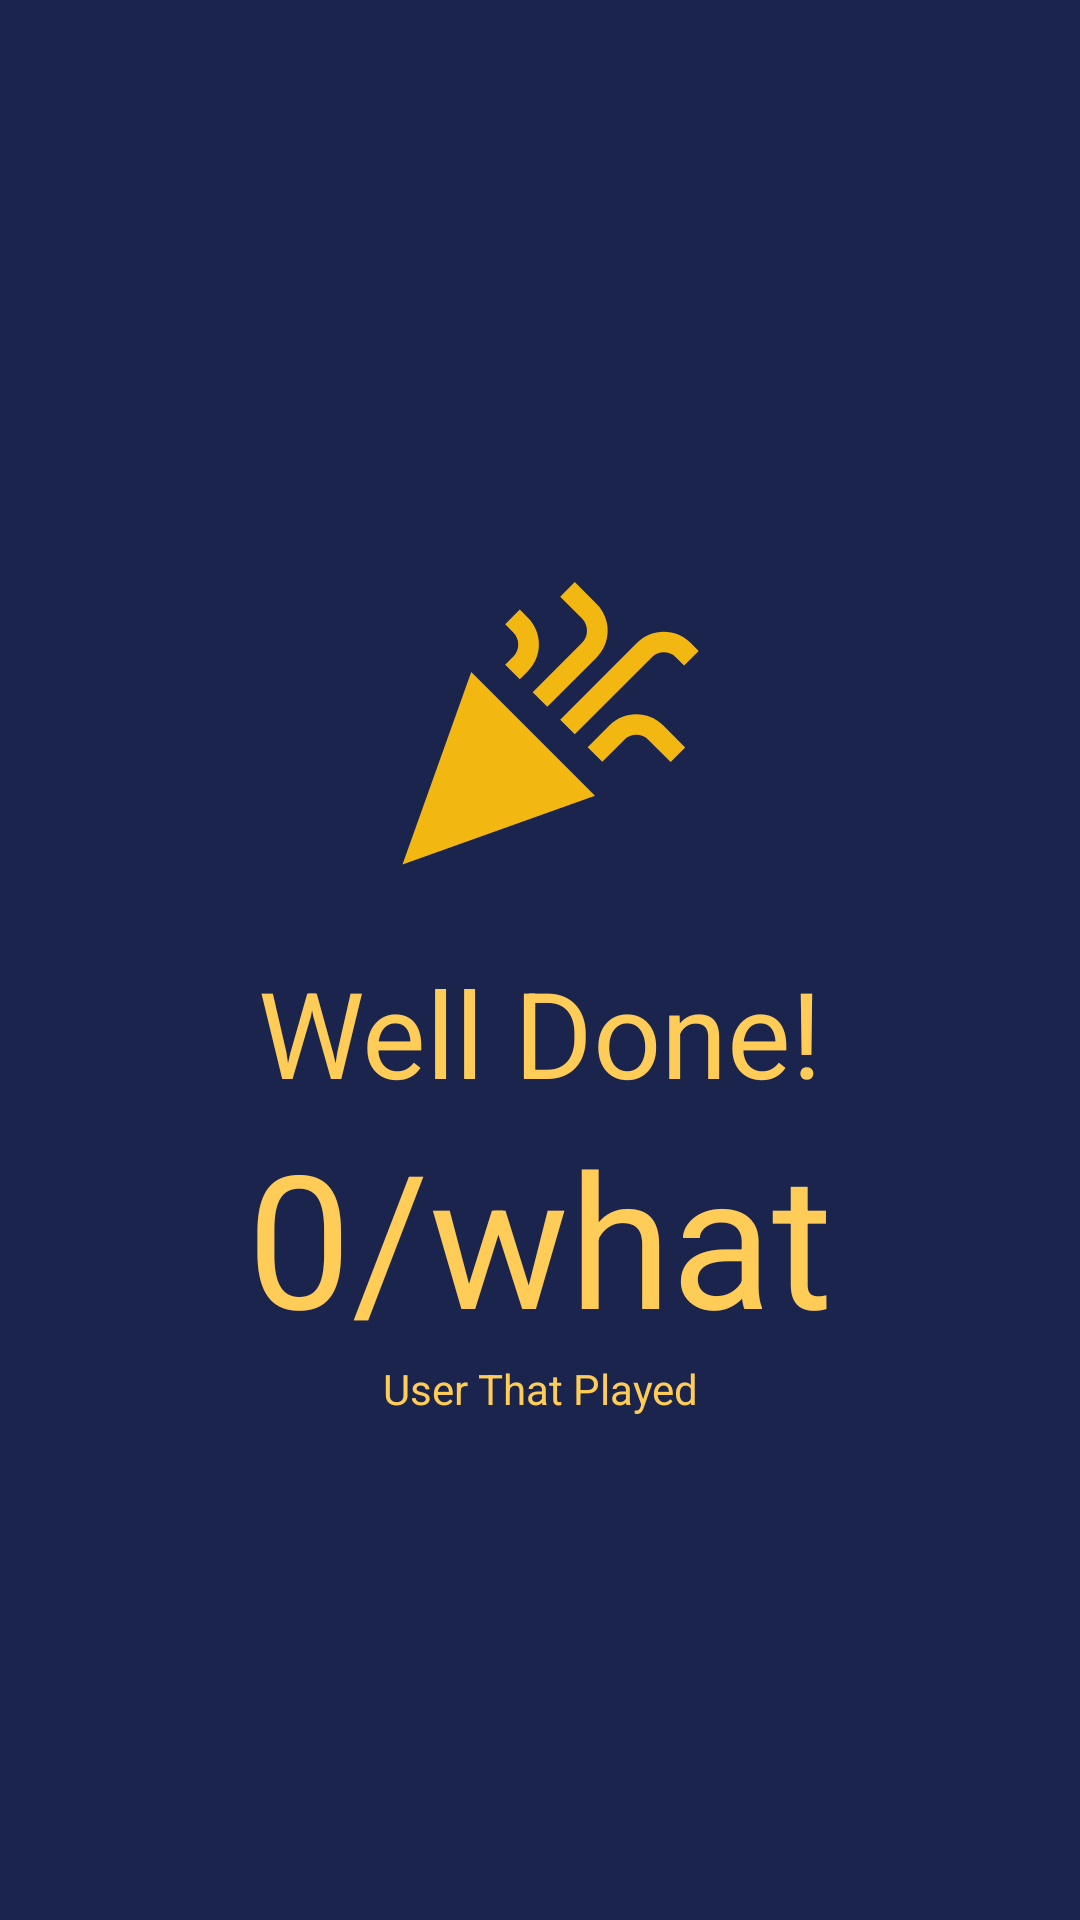

Icon click points for this 1080w x 1920h phone screenshot, format [x,y]:
celebration: [550,723]
